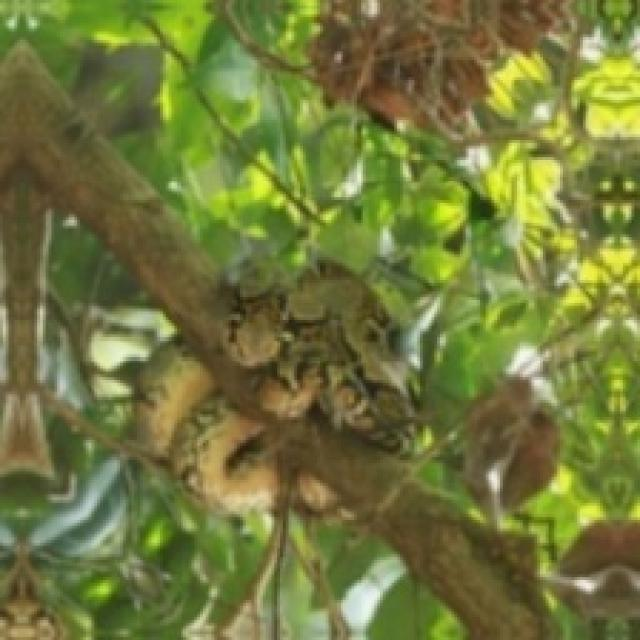reticulated python: (160, 263, 417, 491), (134, 342, 278, 513)
